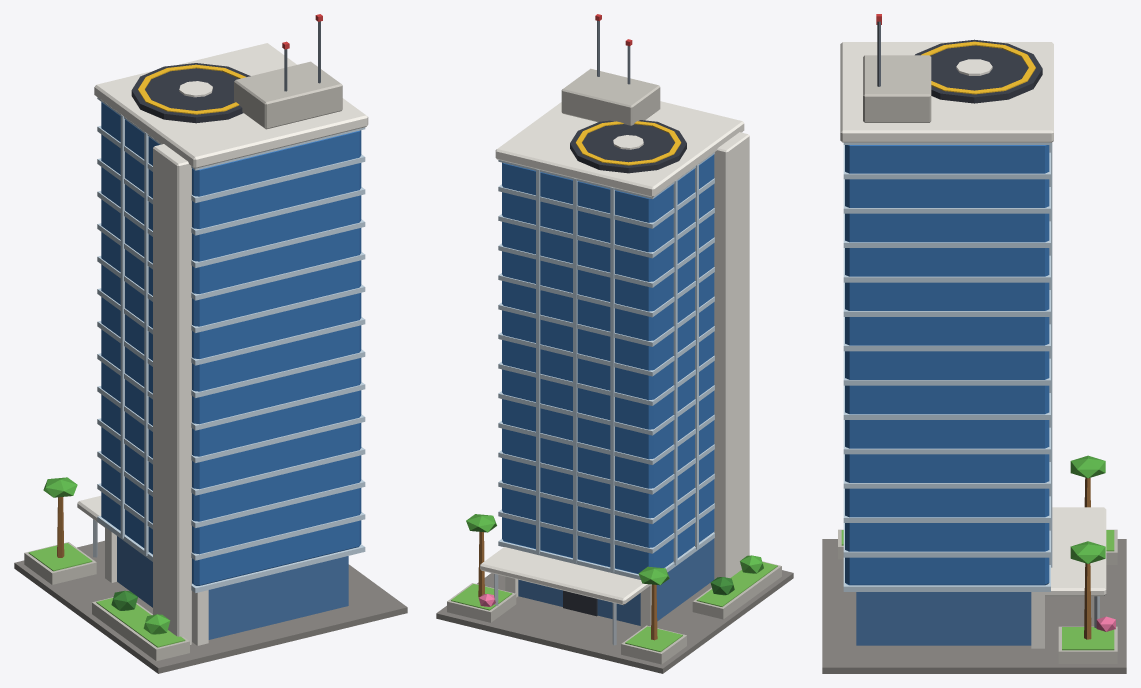
File: torre_escritorios.glb
The picture shows the model from 3 angles, left to right: view 1: azimuth 30°, elevation 25°; view 2: azimuth 150°, elevation 25°; view 3: azimuth 270°, elevation 25°; orthographic projection. The views are drawn at different scales.
Parts seen in each view (by area): view 1: corpo; view 2: corpo; view 3: corpo.
Part boxes in pixels (x1,y1,x2,y2): corpo: (14, 14, 407, 673); corpo: (436, 14, 793, 673); corpo: (822, 14, 1126, 673).
Size of the model in its own units: 1.34 by 3.05 by 1.34.
